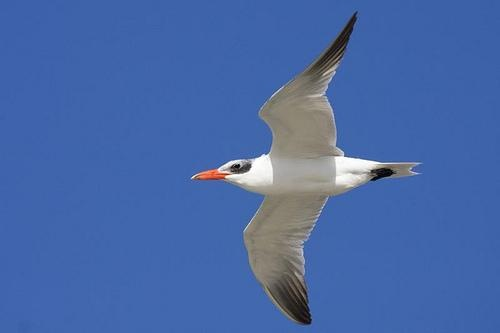bird: (190, 9, 421, 326)
